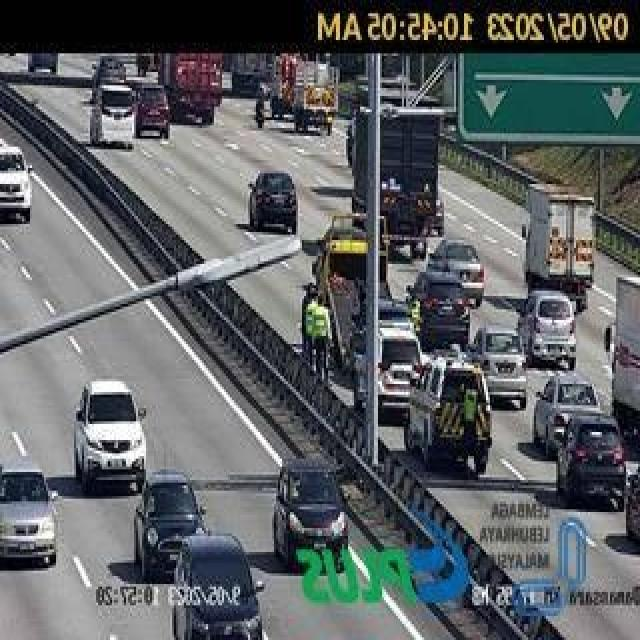Car: (406, 353, 496, 475), (171, 533, 265, 640), (270, 457, 352, 574), (132, 470, 210, 582), (75, 377, 146, 498), (554, 413, 629, 512), (352, 324, 427, 416), (0, 458, 60, 568), (533, 375, 604, 454), (404, 270, 470, 348), (470, 323, 530, 408), (517, 290, 577, 374), (426, 235, 484, 312), (246, 168, 299, 233), (0, 138, 35, 222), (134, 84, 172, 142), (90, 53, 130, 99)
Cycle: (252, 100, 266, 128)
Truck: (353, 104, 439, 256), (520, 182, 597, 311), (601, 271, 640, 451), (158, 54, 222, 125), (294, 59, 339, 135), (270, 54, 300, 119), (227, 54, 269, 97)
Van: (86, 86, 138, 152)
